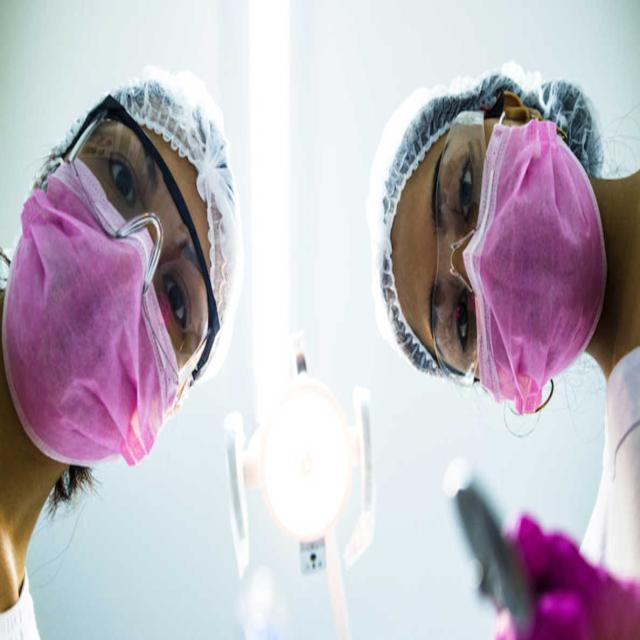Goggles: (68, 88, 236, 397), (430, 103, 487, 387)
Mask: (8, 155, 178, 489), (466, 122, 609, 412)
